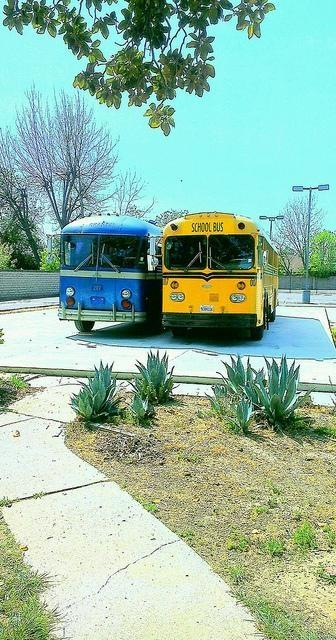bus: (160, 213, 280, 334), (57, 212, 164, 332)
